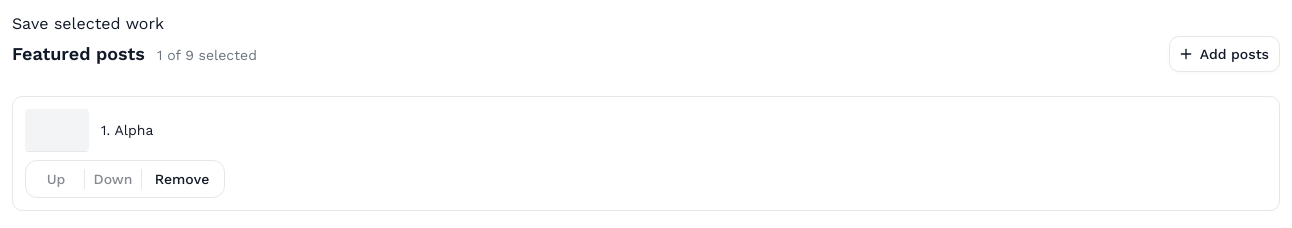
SelectedWorkEditor › returns focus to choosing posts when the last featured post is removed
Click the button with aria-label "remove alpha": (182, 179) [142,163,222,195]
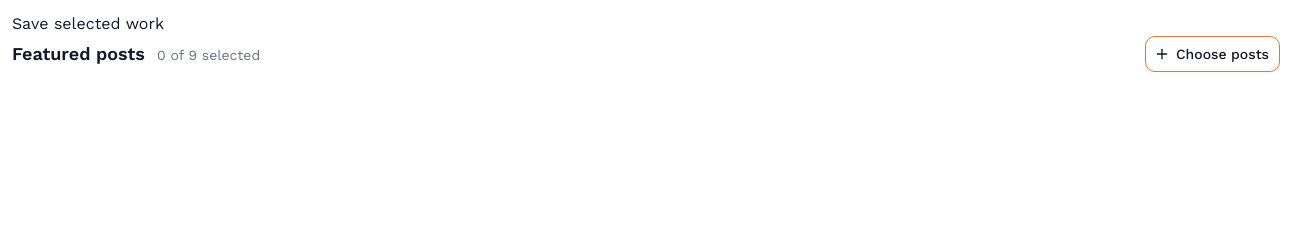
Result: the text "0 of 9 selected" is shown at [157,45,260,65]
